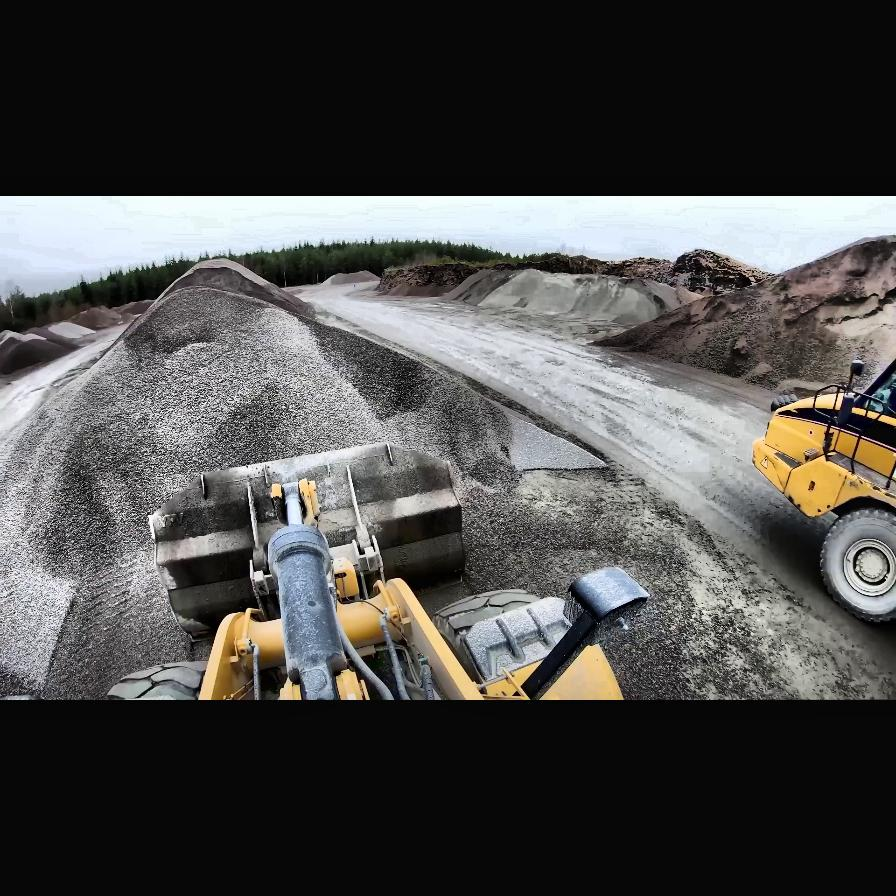anchor: (270, 478, 322, 526)
pile of gravel: (0, 259, 610, 503), (604, 230, 895, 398), (137, 257, 309, 321), (470, 268, 636, 322), (2, 328, 78, 376), (60, 303, 150, 331), (41, 321, 94, 341), (315, 270, 381, 286), (116, 300, 156, 318), (1, 328, 28, 348)
